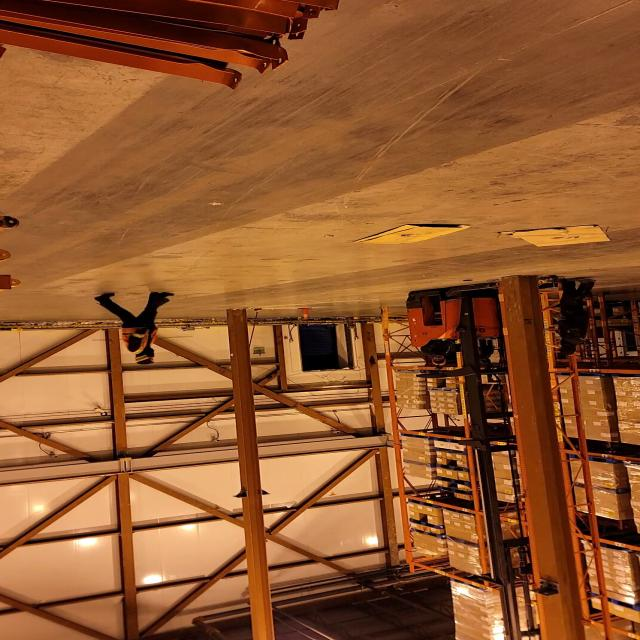forklift: (399, 272, 583, 450)
human: (91, 289, 179, 372), (532, 274, 603, 358), (412, 337, 456, 370)
objectofinterest: (493, 277, 579, 634), (494, 223, 612, 251), (348, 222, 472, 247)
